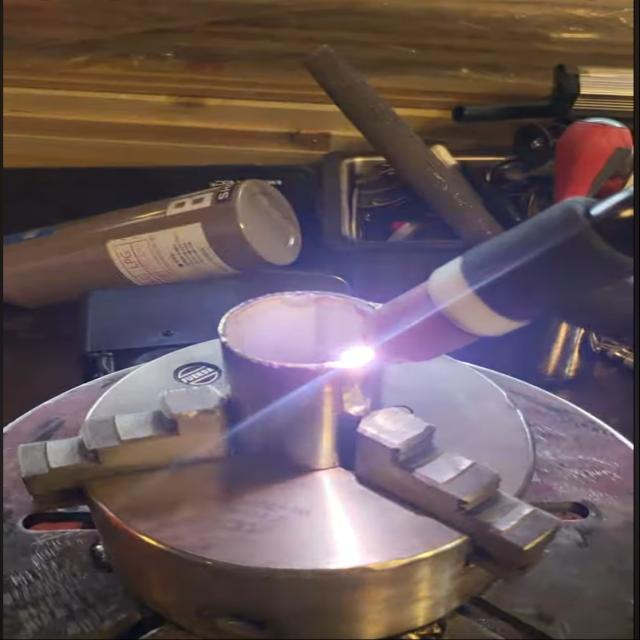welding: (333, 339, 383, 372)
